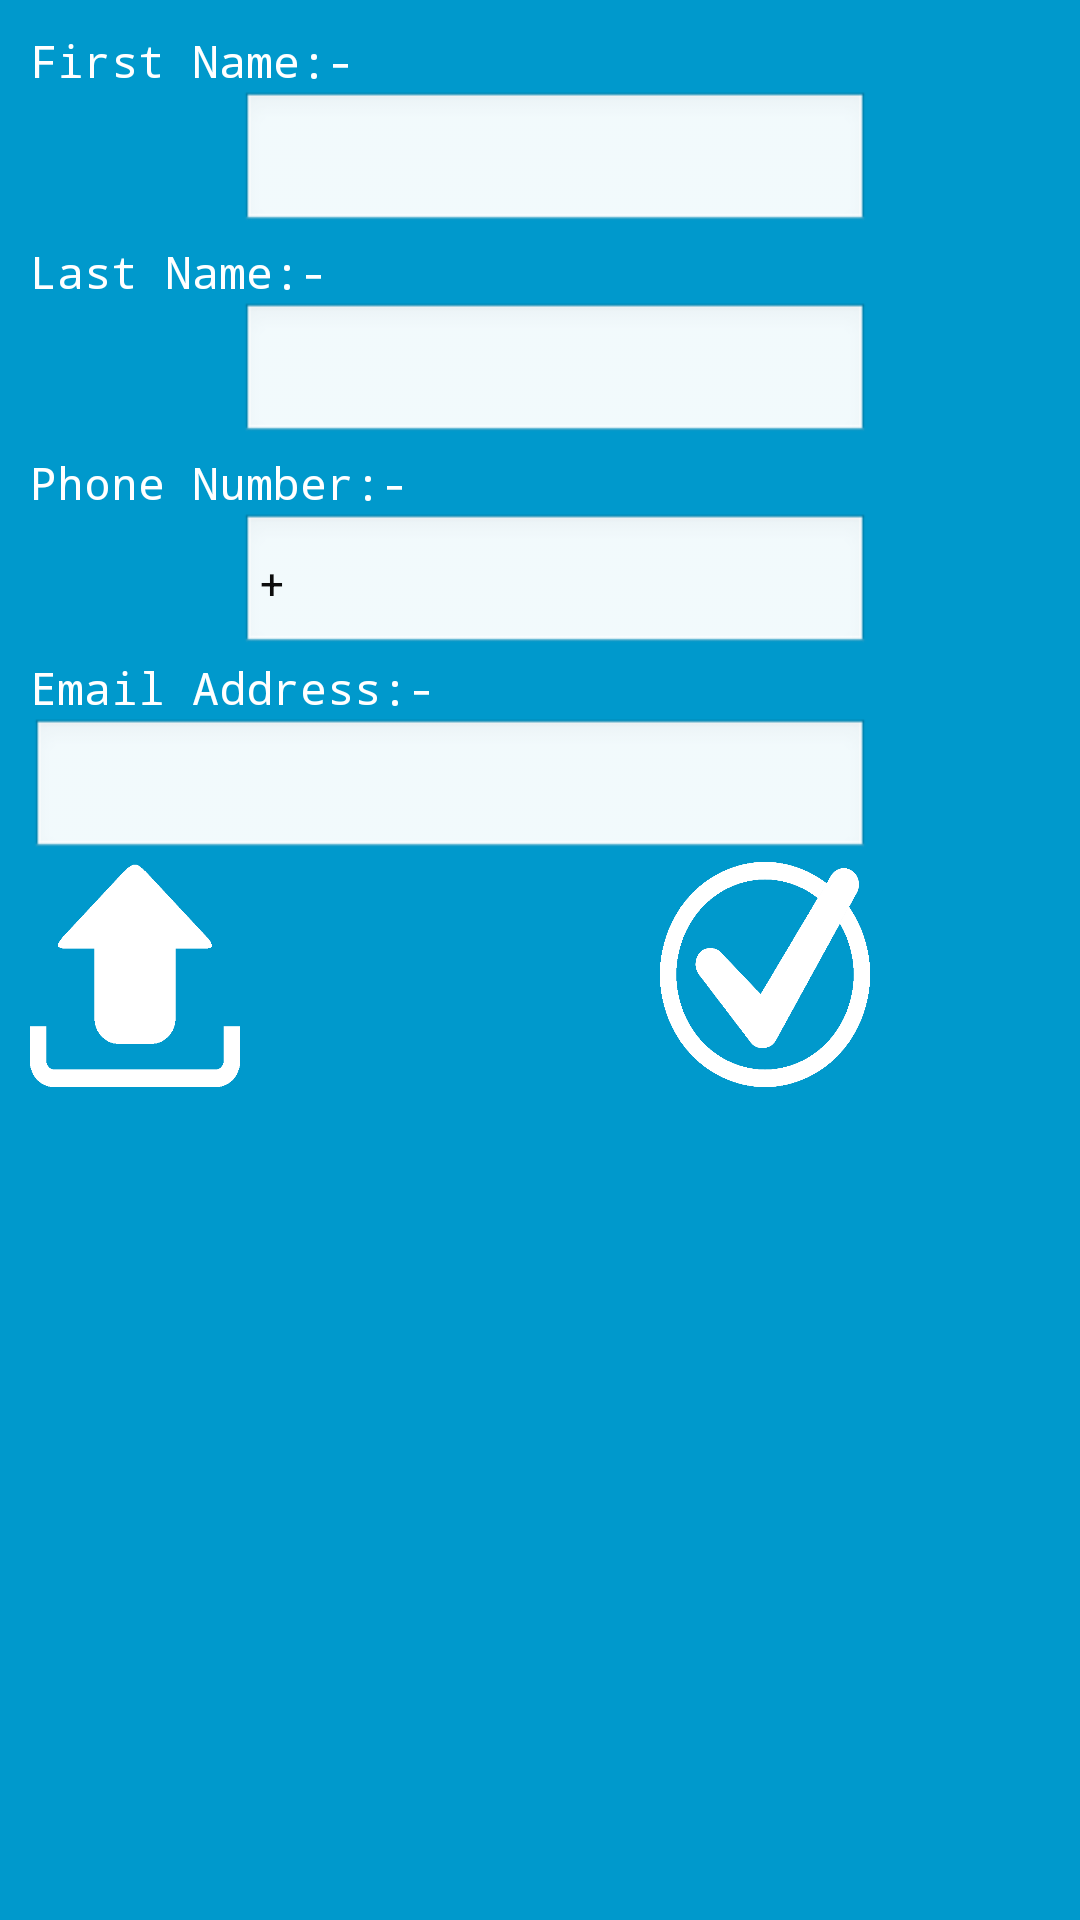

Point at icon controls on the screen. Image size 1080w x 1920h, points as (x,y).
confirm: (765,974)
upload: (135,975)
